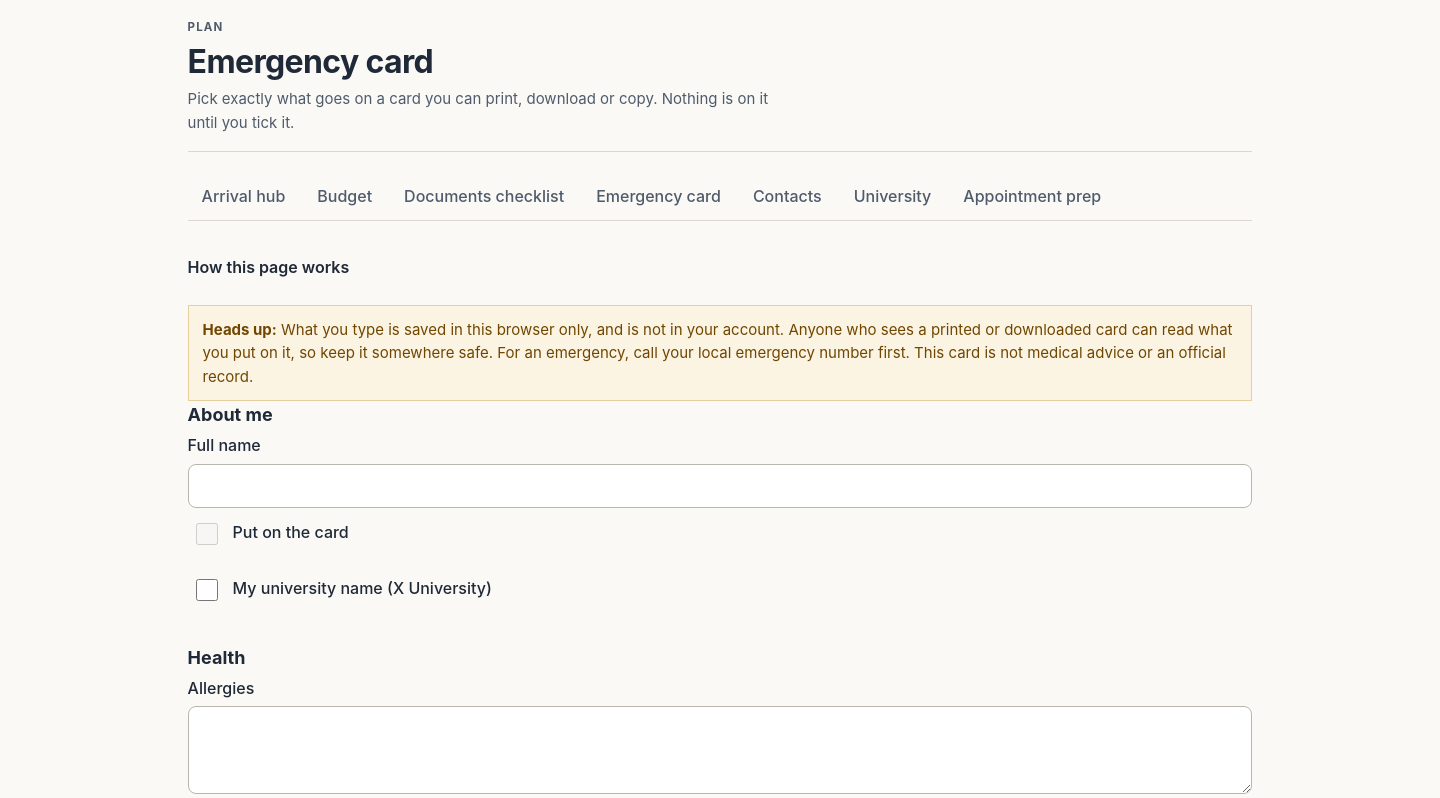
Test: EmergencyCardPage › only enables a tick once there is something to put on the card, then shows it in the preview
In the text box labelled "Allergies": (720, 750) 188,706 -> 1252,794, type "Penicillin"
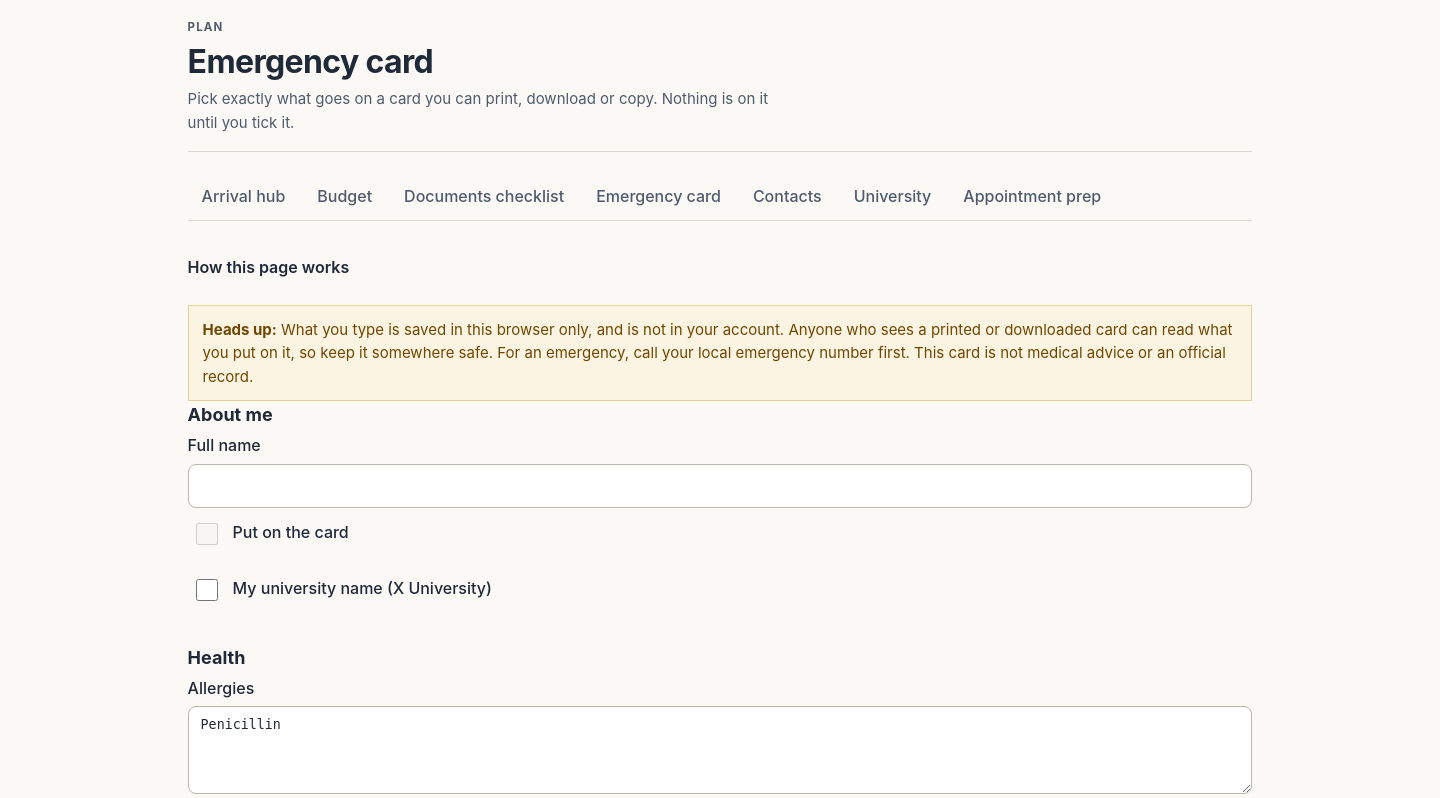
Leave the text box labelled "Allergies", box 188,706 -> 1252,794
(page scrolled)
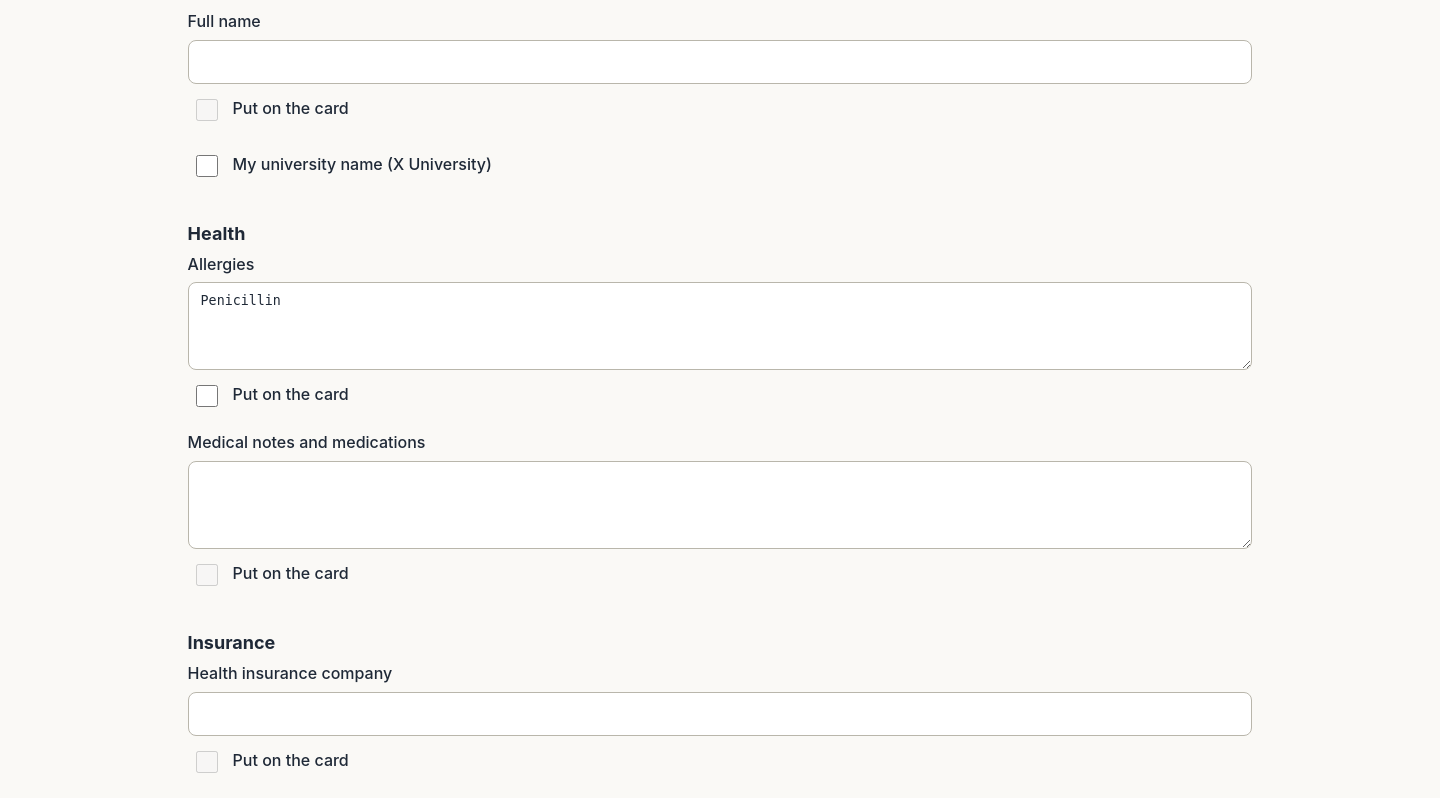
expect the field labelled "Card preview" does not show "Penicillin": met
expect the checkbox named "Put “Allergies” on the card" is enabled: met
Click the checkbox named "Put “Allergies” on the card": (207, 396) 196,385 -> 218,407
(page scrolled)
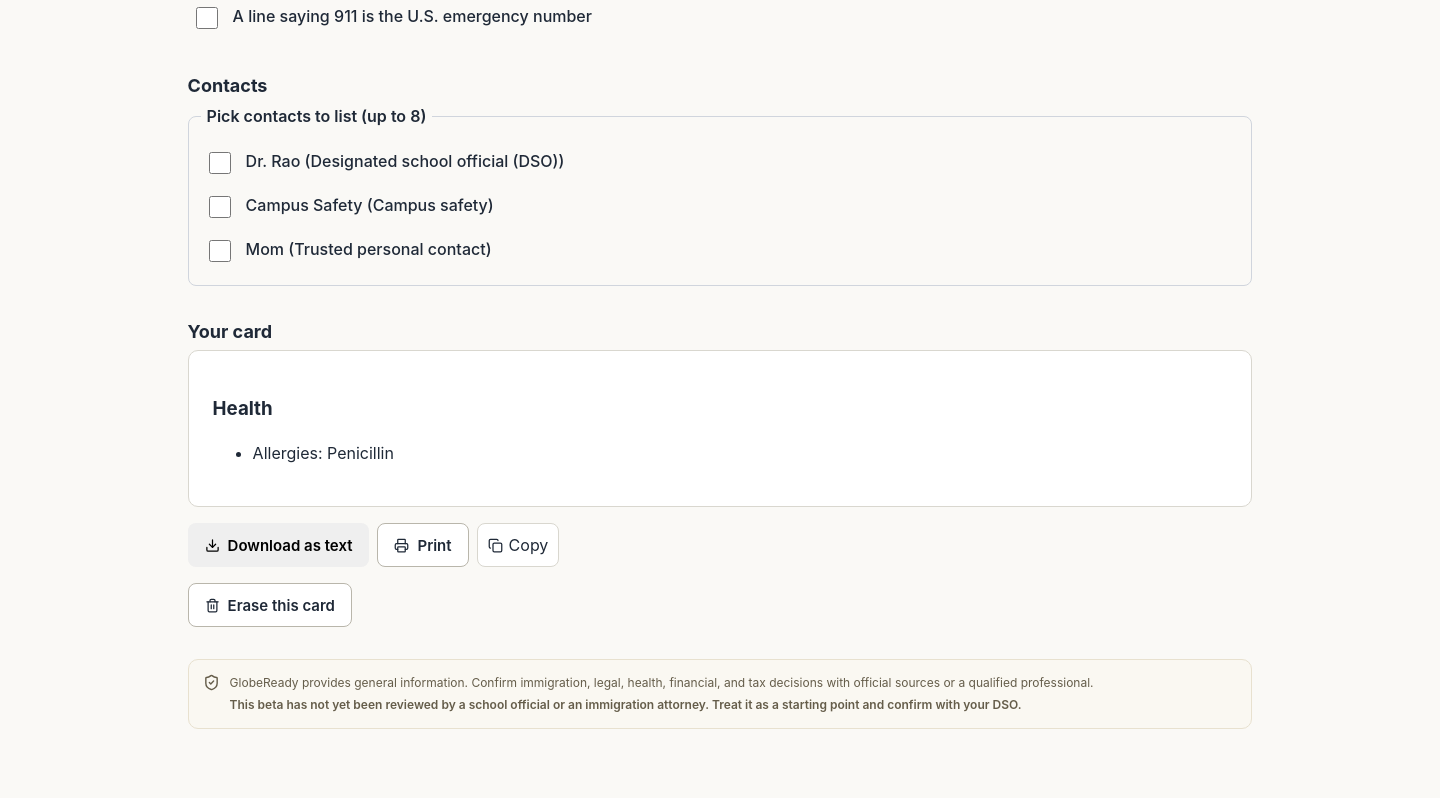
expect the element named "Card preview" shows "Allergies: Penicillin": met, box 253,443 -> 394,463
